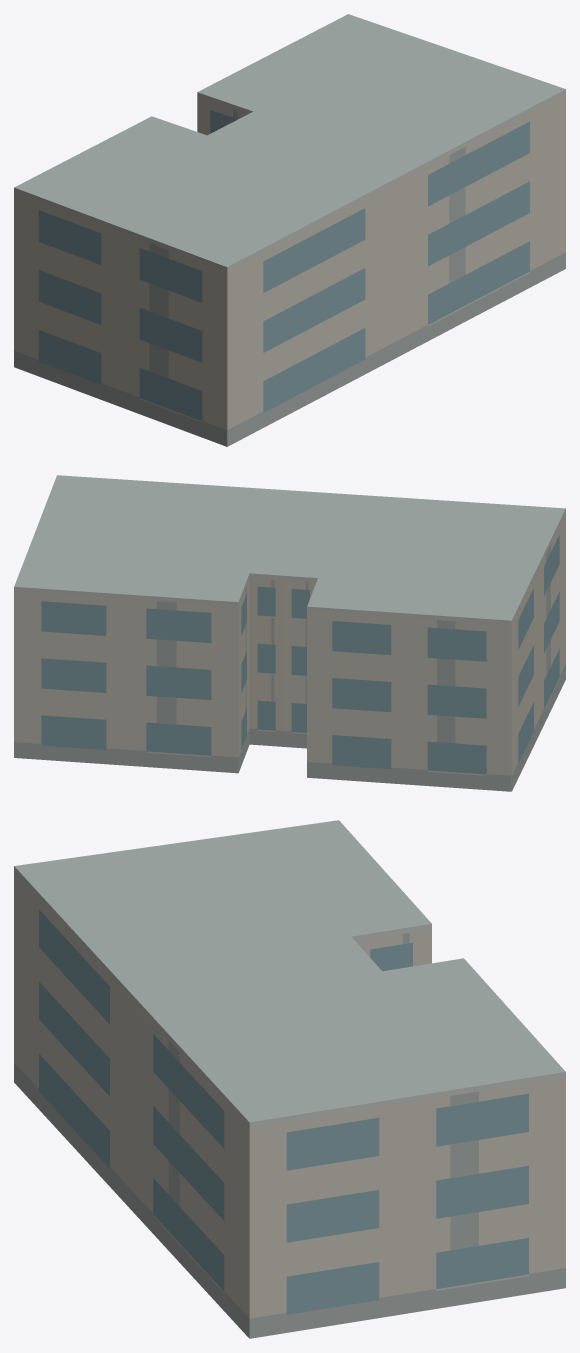
Rendered from residential-d4a60563-1d7e-4d6b-878b-0de258ec6b0b.glb.
The picture shows the model from 3 angles, top to bottom: view 1: azimuth 30°, elevation 25°; view 2: azimuth 150°, elevation 25°; view 3: azimuth 270°, elevation 25°; orthographic projection. The views are drawn at different scales.
Parts seen in each view (by area): view 1: residential-d4a60563-1d7e-4d6b-878b-0de258ec6b0b.tmp; view 2: residential-d4a60563-1d7e-4d6b-878b-0de258ec6b0b.tmp; view 3: residential-d4a60563-1d7e-4d6b-878b-0de258ec6b0b.tmp.
Part boxes in pixels (<box>): residential-d4a60563-1d7e-4d6b-878b-0de258ec6b0b.tmp: <box>14,14,565,446</box>; residential-d4a60563-1d7e-4d6b-878b-0de258ec6b0b.tmp: <box>14,475,565,791</box>; residential-d4a60563-1d7e-4d6b-878b-0de258ec6b0b.tmp: <box>14,820,565,1338</box>.
Bounding box in the file's own units: 27.44 × 9.15 × 21.16.
